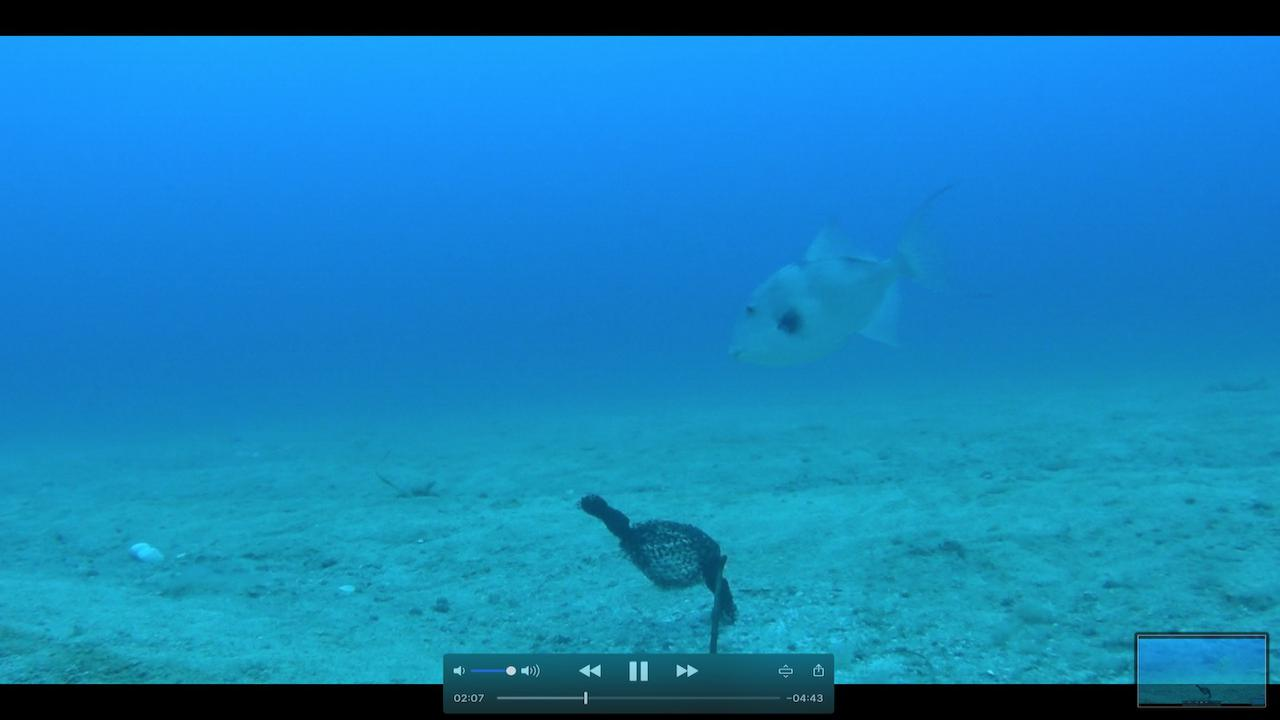balistes: (727, 178, 1018, 372)
